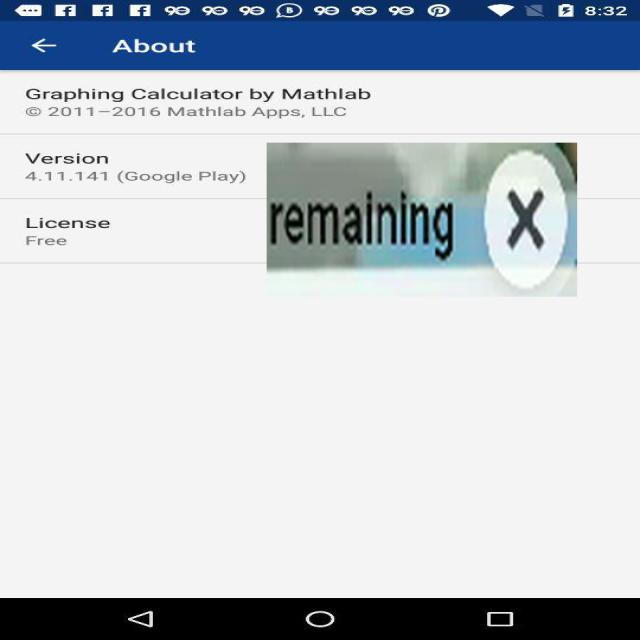misdirection: (267, 142, 577, 296)
